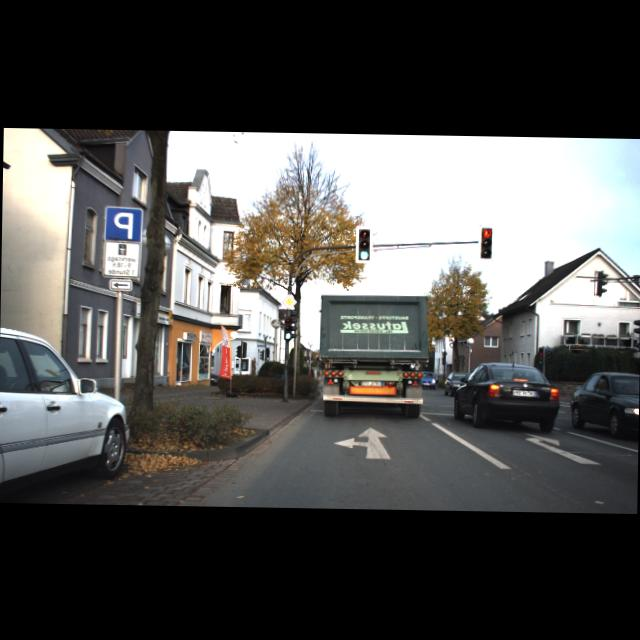other: (282, 292, 298, 308)
